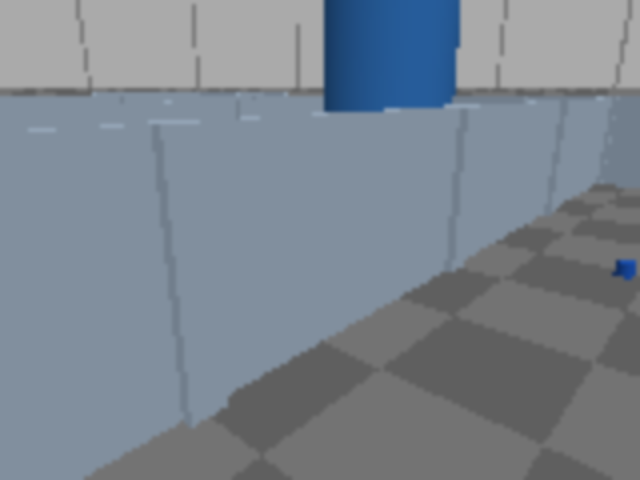puck: (616, 258, 634, 278)
